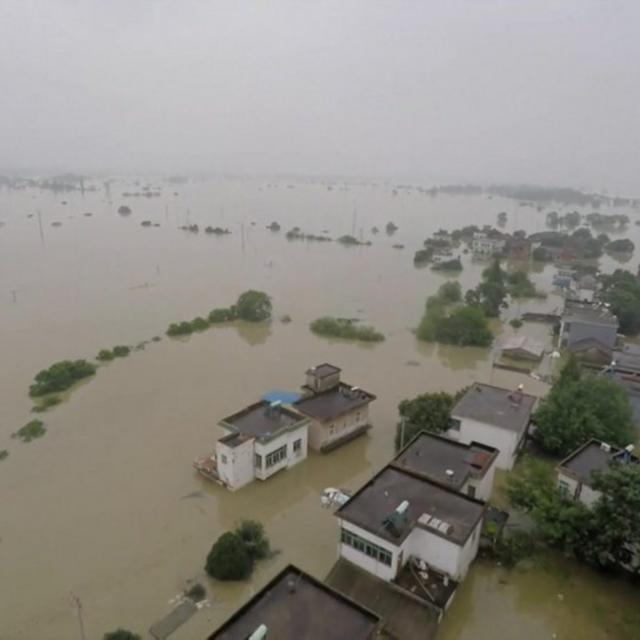flood: (0, 0, 640, 442), (0, 180, 580, 640), (0, 179, 558, 640), (0, 321, 388, 640), (322, 312, 562, 474), (437, 542, 640, 640), (489, 260, 566, 352), (599, 208, 640, 272)
house: (326, 438, 496, 612), (186, 564, 382, 640), (214, 393, 306, 489), (445, 382, 537, 476), (294, 361, 376, 446), (558, 433, 623, 491)
